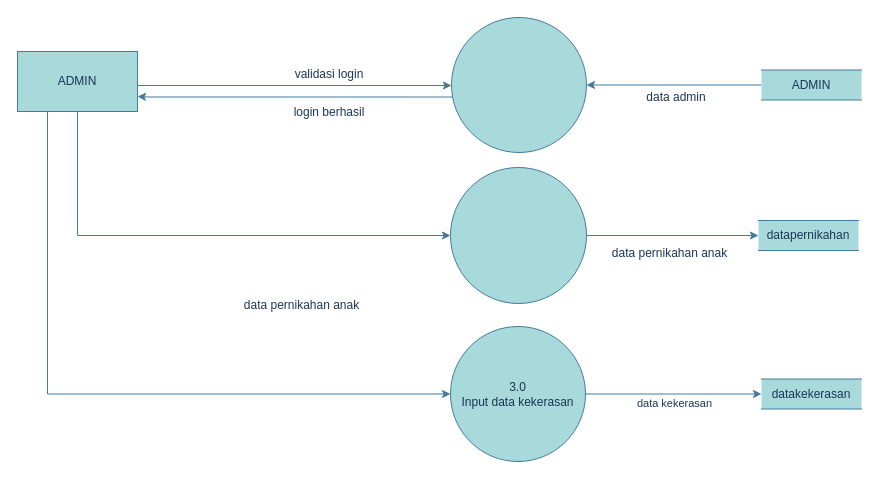
This 879x479 diagram has some shape labels left out. Each missing label, with the centre of its shape:
"1.0 Login" goes at point 518,84.
"2.0 Input data Pernikahan anak" goes at point 518,235.
